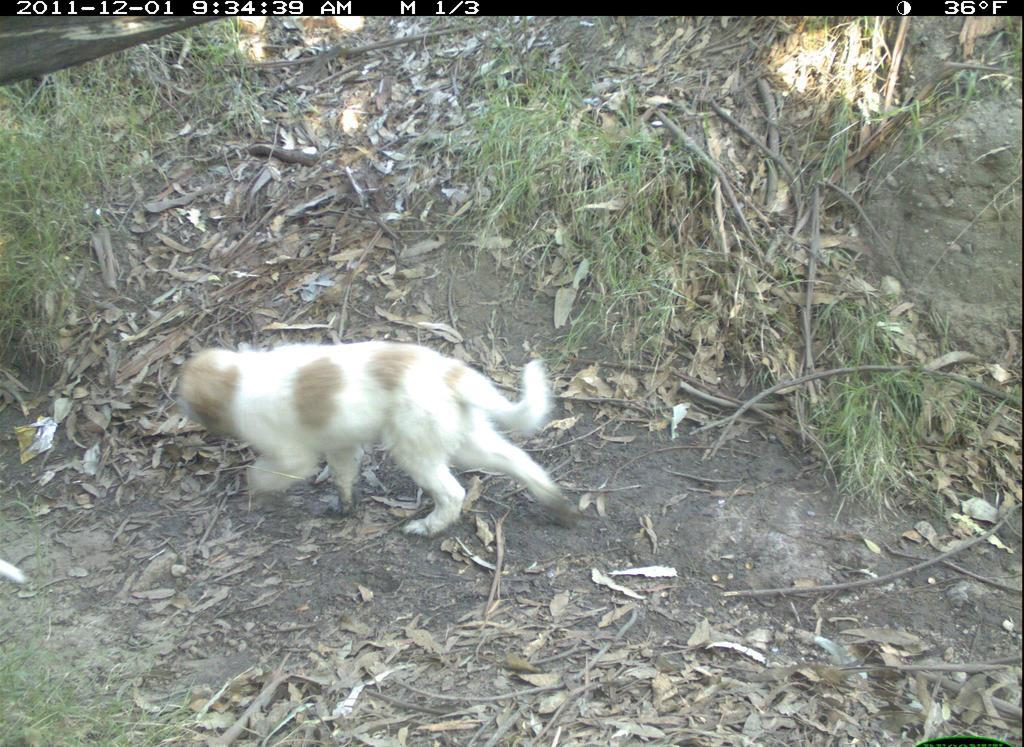dog: (175, 319, 578, 546)
